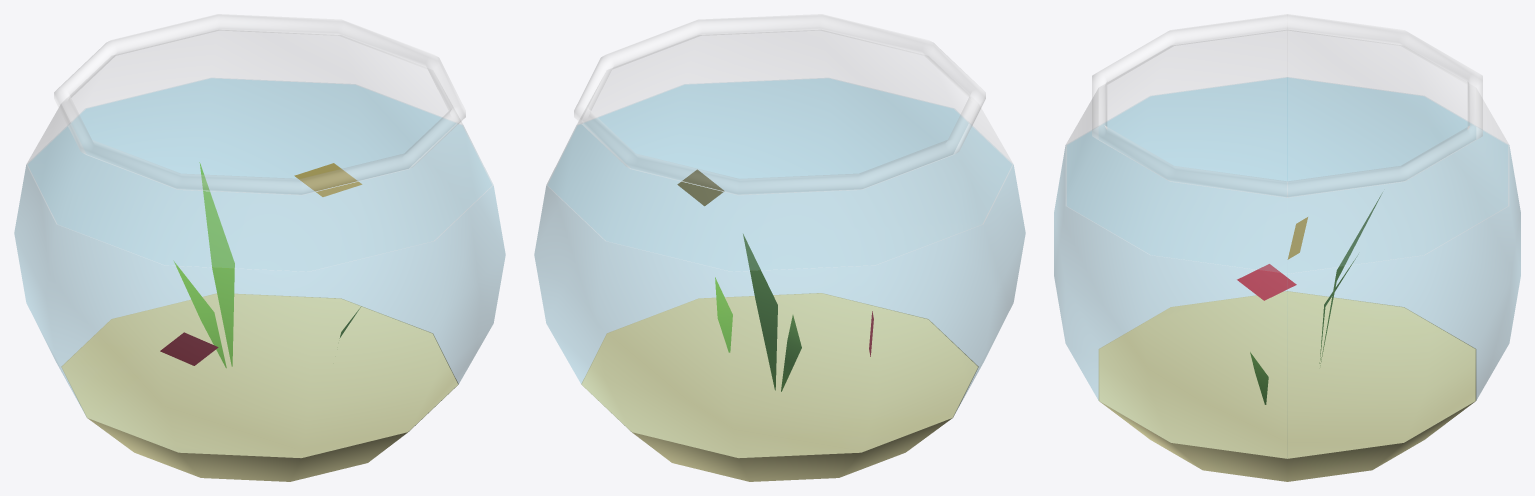
Rendered from sf-fishbowl.glb.
The picture shows the model from 3 angles, left to right: view 1: azimuth 30°, elevation 25°; view 2: azimuth 150°, elevation 25°; view 3: azimuth 270°, elevation 25°; orthographic projection.
Visible parts, largest first — view 1: defaultMaterial; view 2: defaultMaterial; view 3: defaultMaterial.
Boxes of the visible parts, bbox=[...] form: defaultMaterial: bbox=[14, 14, 505, 481]; defaultMaterial: bbox=[534, 14, 1025, 481]; defaultMaterial: bbox=[1054, 14, 1520, 481].
Bounding box in the file's own units: 0.3149 × 0.24 × 0.2995.
1 material, 1 textured.
